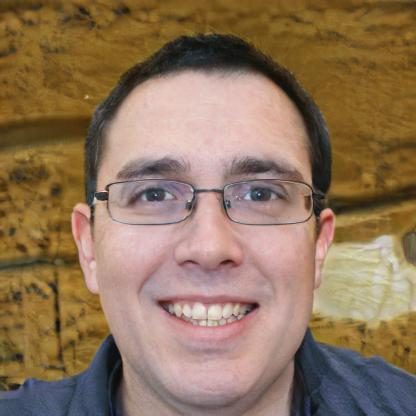glasses: (99, 174, 316, 230)
